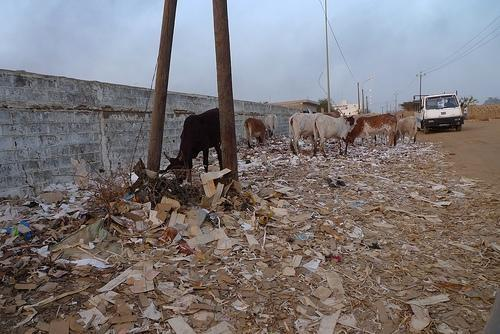truck: (412, 90, 464, 134)
